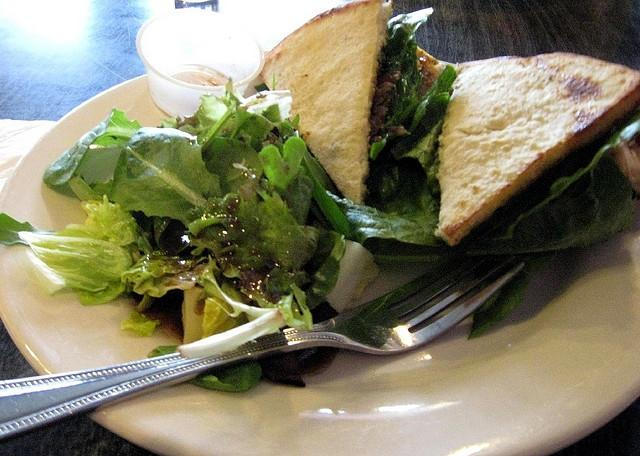lettuce: (460, 152, 640, 257), (177, 254, 315, 358), (89, 126, 224, 226), (370, 9, 434, 160), (19, 224, 134, 306), (468, 251, 560, 340), (44, 108, 142, 186), (384, 92, 450, 182), (201, 136, 263, 207), (324, 240, 377, 314), (401, 63, 458, 131), (256, 346, 339, 388), (198, 108, 274, 150), (258, 136, 306, 188), (186, 362, 262, 392), (202, 296, 250, 340), (153, 217, 190, 256)
